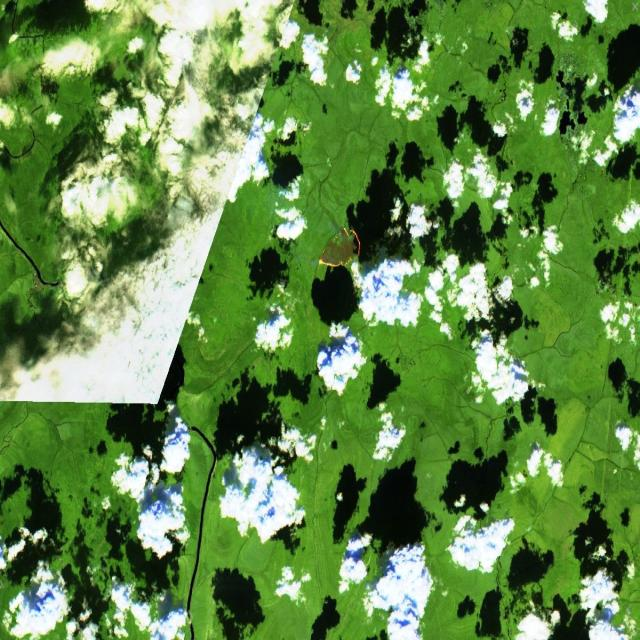fire: (312, 216, 367, 283)
